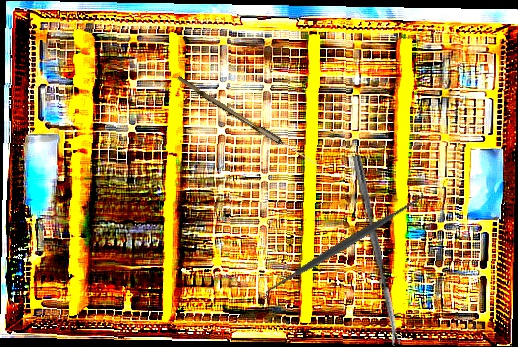Spatula Surgical: (257, 187, 430, 304)
Surgical Spoon: (174, 75, 322, 169), (351, 154, 401, 347)
